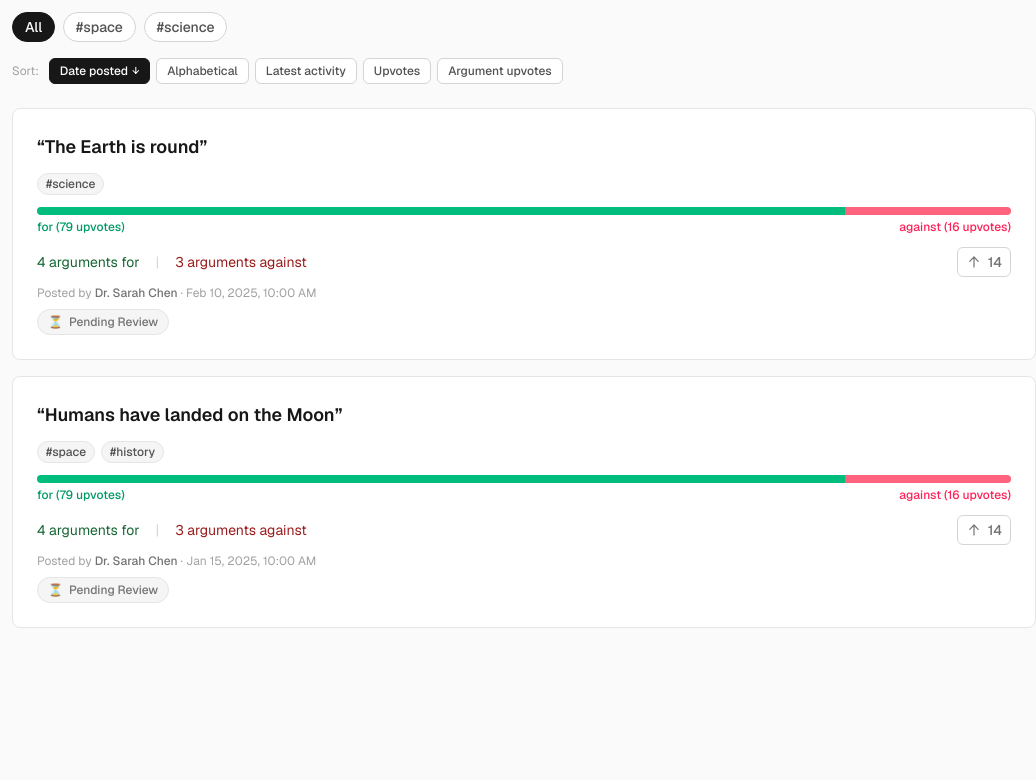
it: StatementList › filters statements when a tag chip is clicked
Note: Click the "science" tag chip (the button, not the badge span)
Click the button "#science".
click(186, 27)  # box x1=144 y1=12 x2=228 y2=42
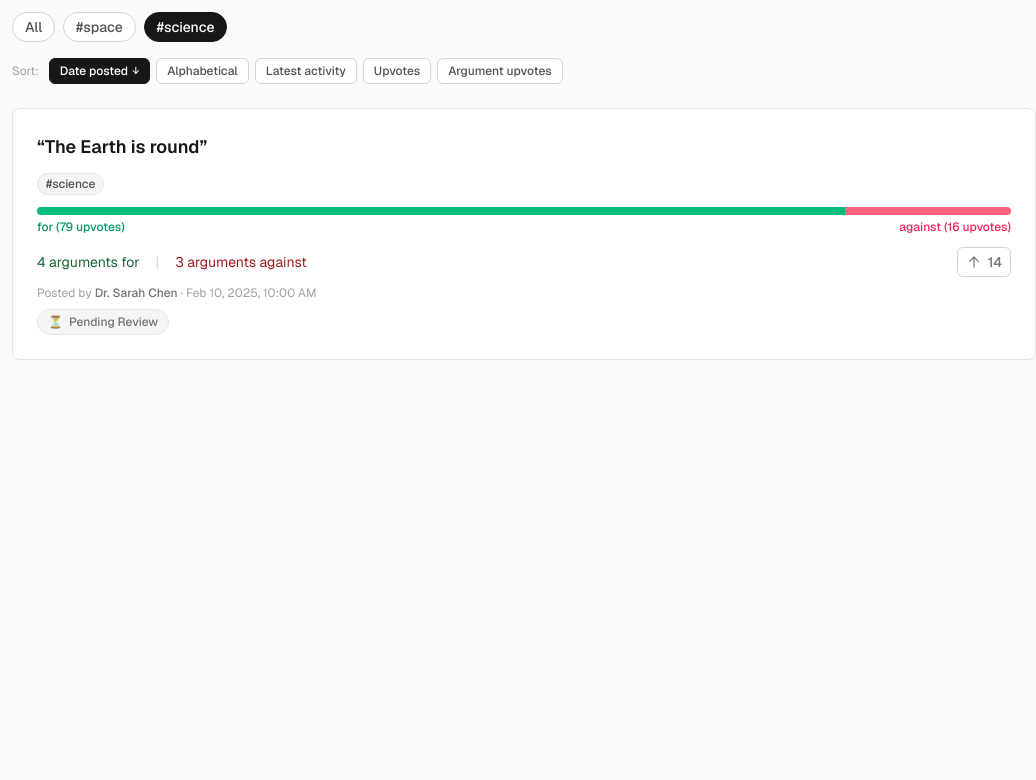
Expected: the heading "“The Earth is round”" is shown, x1=37 y1=135 x2=207 y2=158
Expected: the link "Humans have landed on the Moon" is gone
